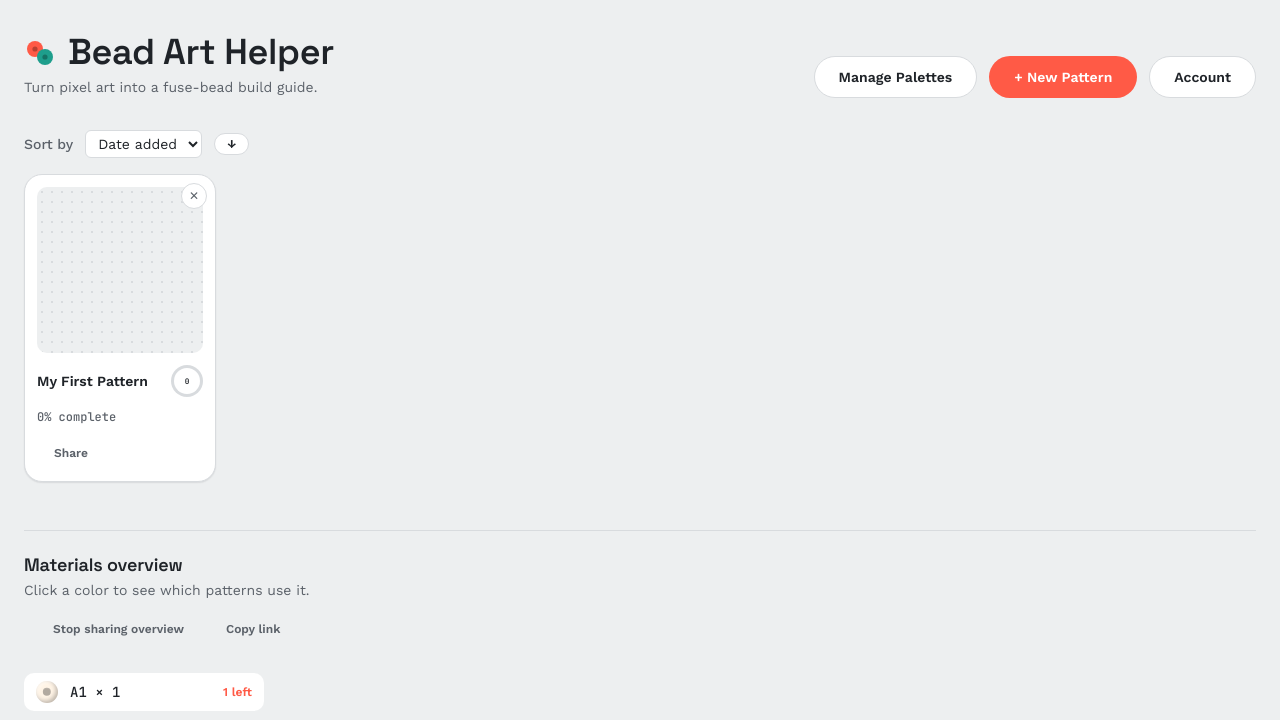
Scenario: copies the overview share link
Click the button "Copy link".
click(253, 629)  # box [209,613,298,645]
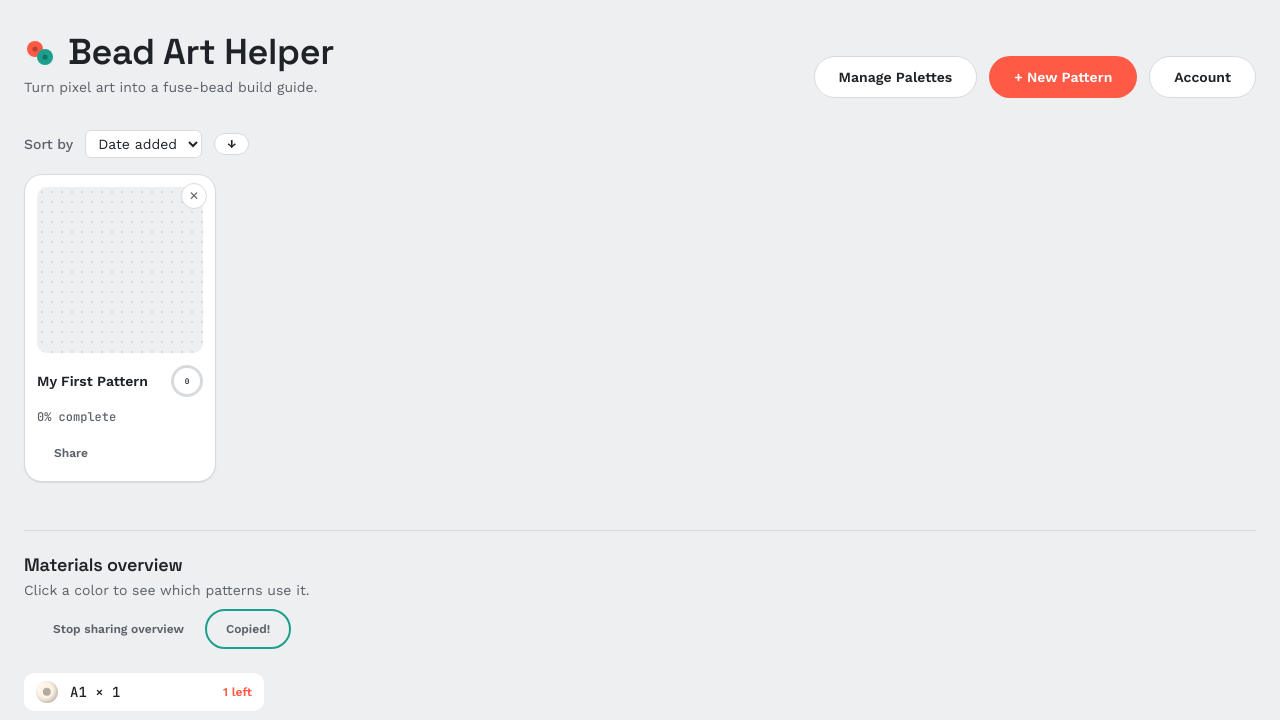
Now the button "Copied!" is shown, box [209,613,287,645]
